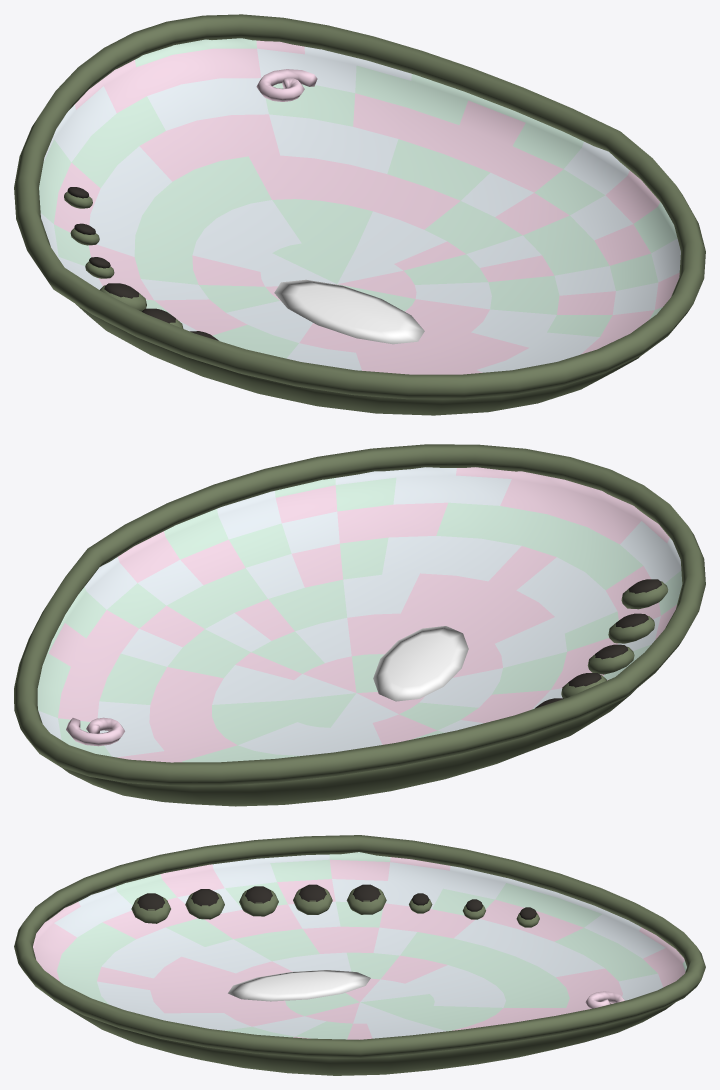
Rendered from sea-abalone.glb.
3 views of the same model, one above another, from view 1: azimuth 30°, elevation 25°; view 2: azimuth 150°, elevation 25°; view 3: azimuth 270°, elevation 25° (orthographic). The views are drawn at different scales.
Parts seen in each view (by area): view 1: abalone; view 2: abalone; view 3: abalone.
Boxes of the visible parts, left/top/right/bottom form: abalone: left=14, top=14, right=705, bottom=415; abalone: left=14, top=444, right=705, bottom=806; abalone: left=14, top=835, right=705, bottom=1075.
Bounding box in the file's own units: 0.1795 × 0.0341 × 0.2467.
